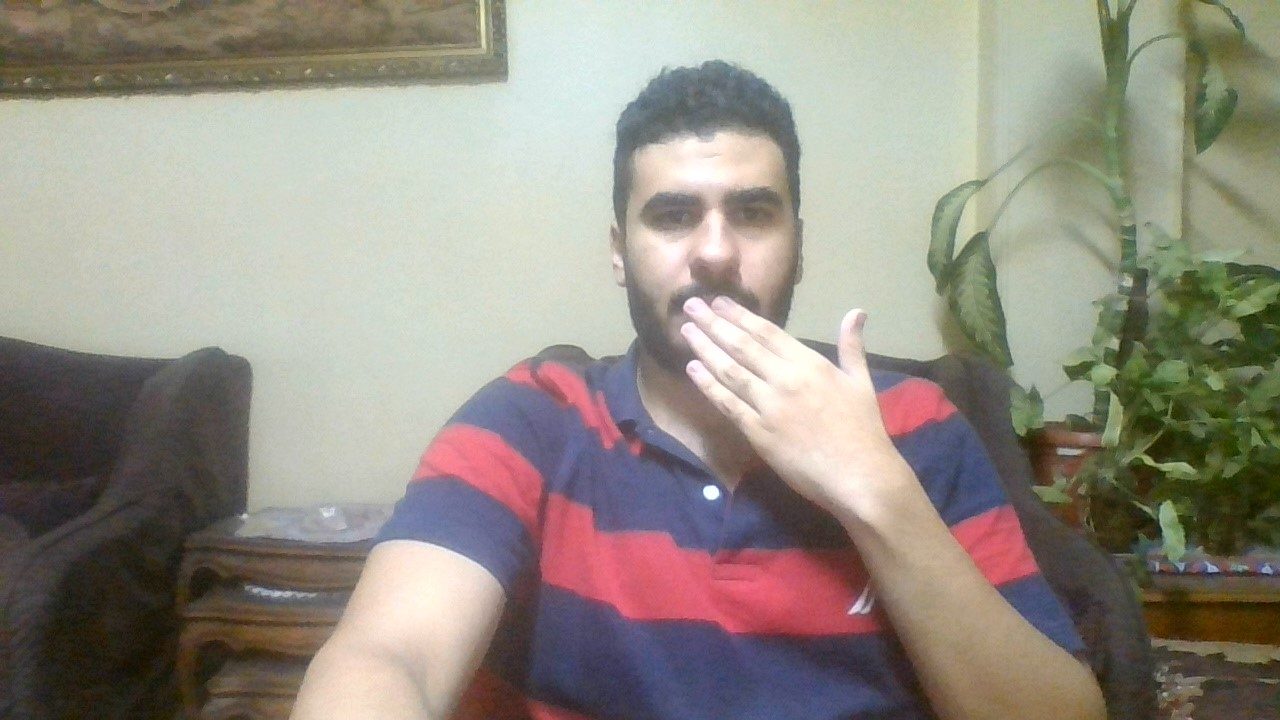thankyou: (658, 290, 906, 506)
